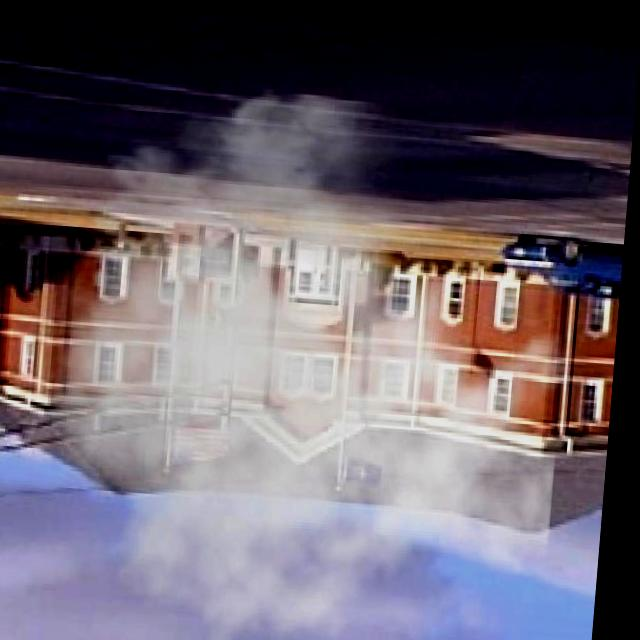Smoke: (0, 71, 585, 640)
